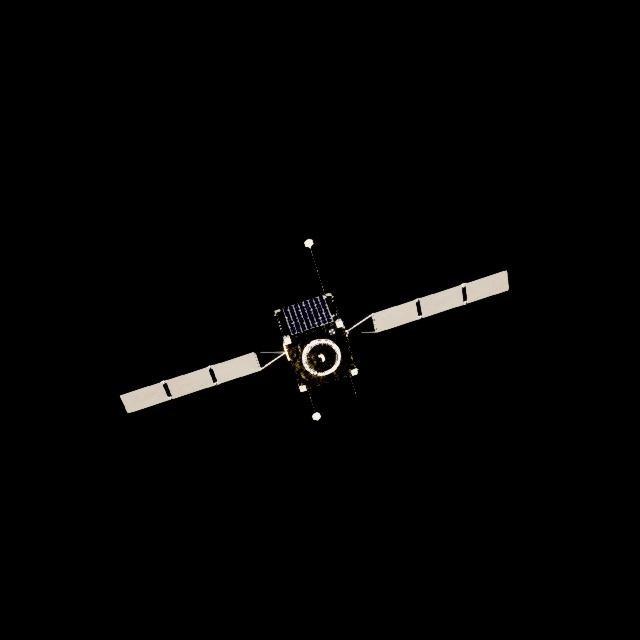satellite: (120, 271, 510, 423)
